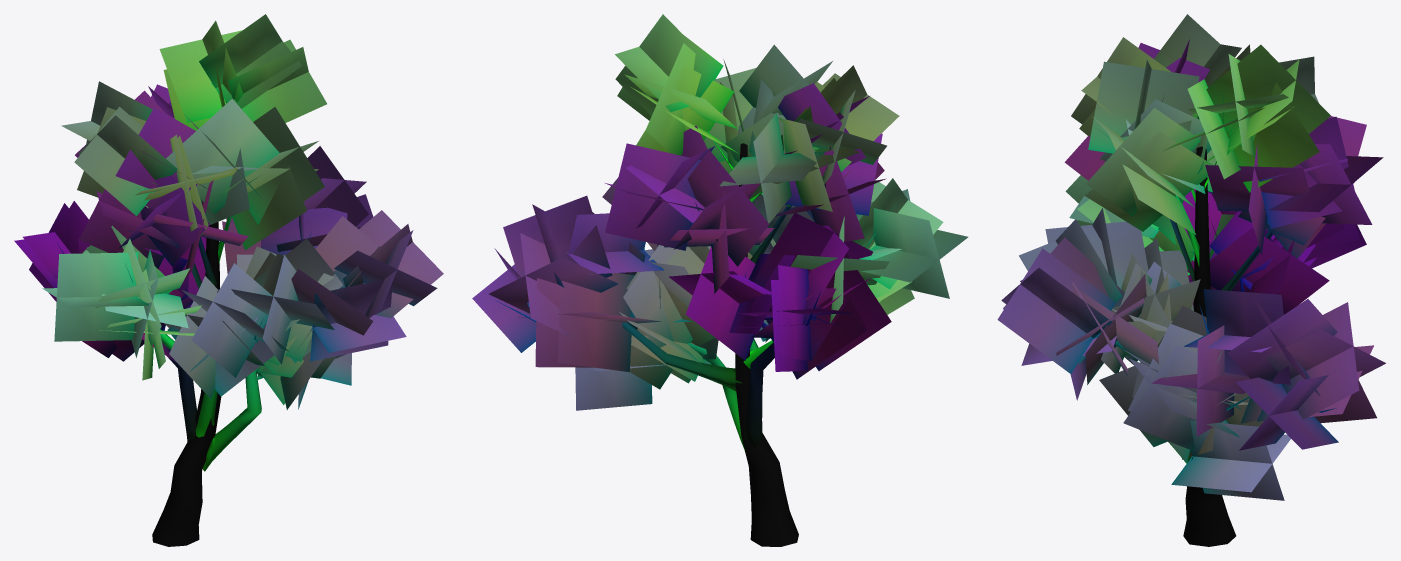
Rendered from URP_P5_Tree_14_LOD_2.fbx.
3 views of the same model, side by side, from view 1: azimuth 30°, elevation 25°; view 2: azimuth 150°, elevation 25°; view 3: azimuth 270°, elevation 25° (orthographic). The views are drawn at different scales.
Parts seen in each view (by area): view 1: Tree_14_LOD_2; view 2: Tree_14_LOD_2; view 3: Tree_14_LOD_2.
Part boxes in pixels (left/top/right/bottom): Tree_14_LOD_2: left=14, top=14, right=443, bottom=546; Tree_14_LOD_2: left=472, top=14, right=968, bottom=546; Tree_14_LOD_2: left=997, top=14, right=1385, bottom=546.
Size of the model in its own units: 423 by 499 by 329.
